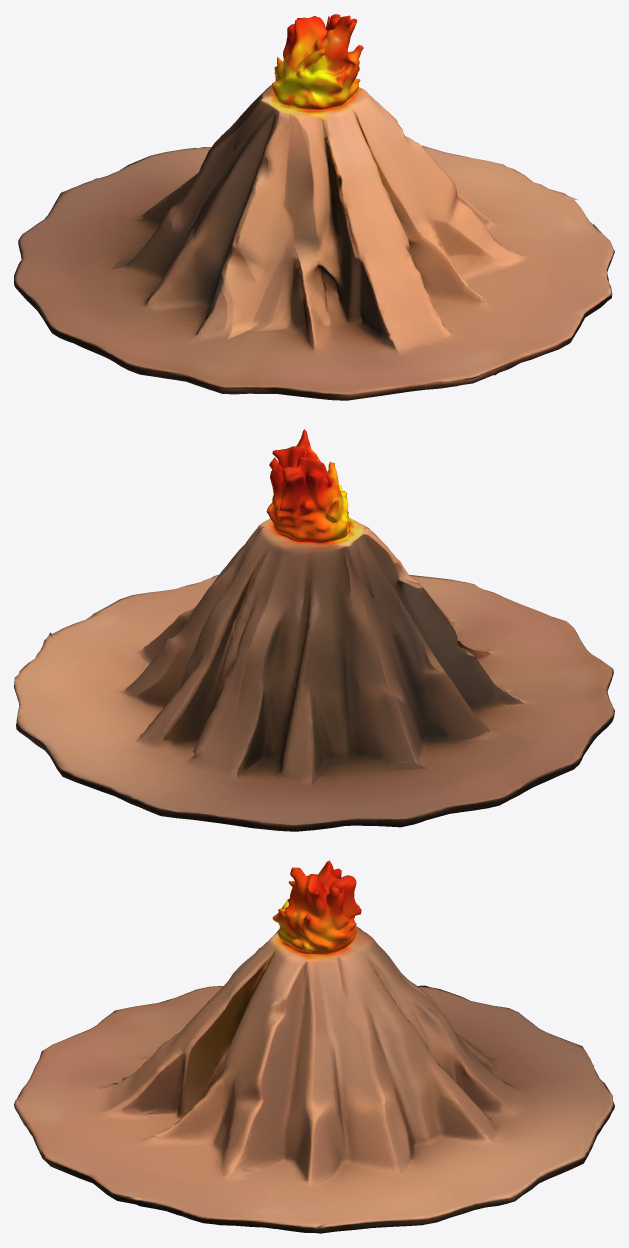
The model's file is volcanoT.glb.
The picture shows the model from 3 angles, top to bottom: view 1: azimuth 30°, elevation 25°; view 2: azimuth 150°, elevation 25°; view 3: azimuth 270°, elevation 25°; orthographic projection. The views are drawn at different scales.
Parts seen in each view (by area): view 1: model; view 2: model; view 3: model.
Part boxes in pixels (box(x1,y1,x2,y2)): model: box(14, 14, 614, 400); model: box(14, 429, 614, 831); model: box(14, 860, 614, 1233).
Bounding box in the file's own units: 1.84 × 0.8721 × 1.87.
1 material, 1 textured.
